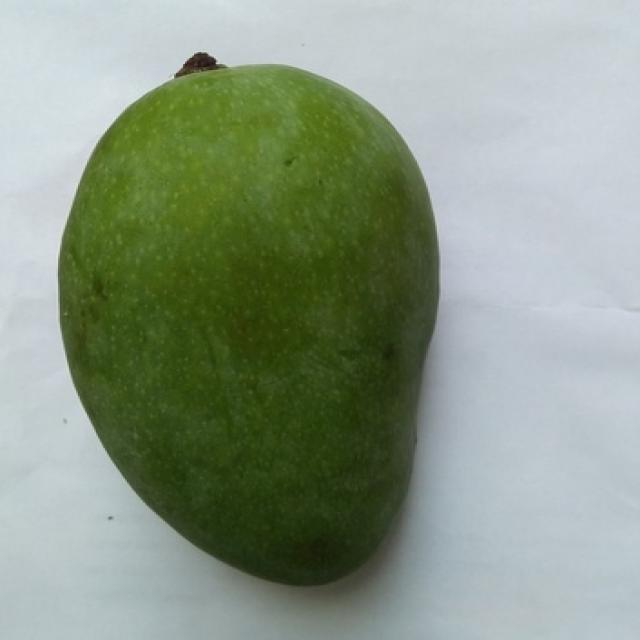Mango: (60, 68, 437, 583)
